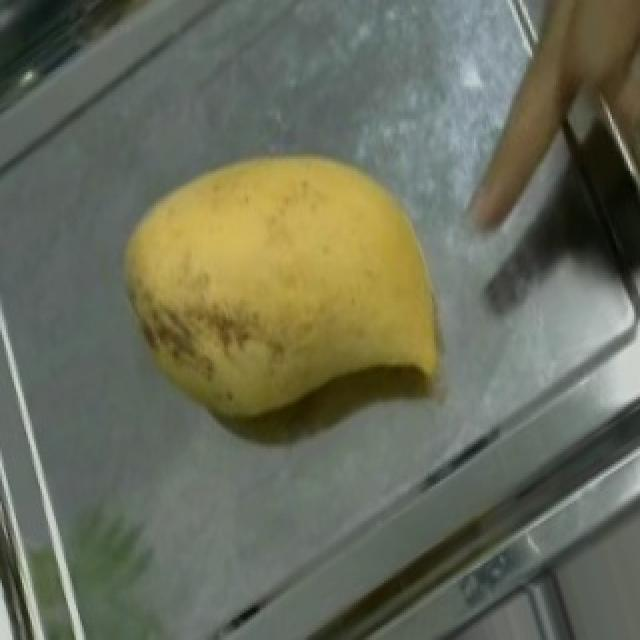fruit: (54, 72, 528, 481), (528, 0, 640, 241)
